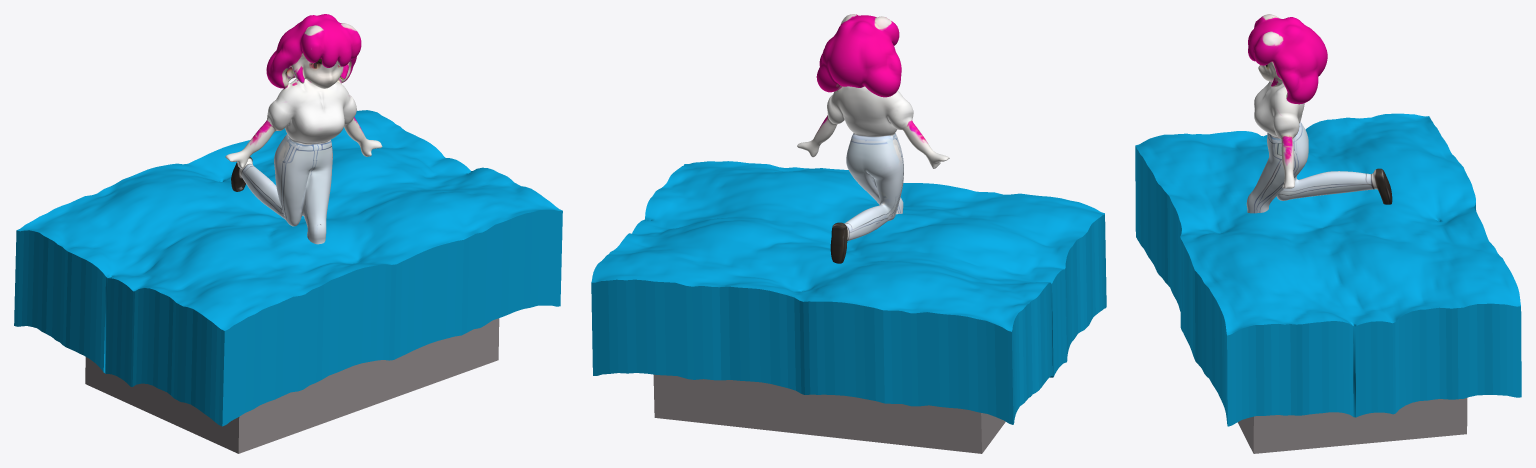
The model's file is asset.glb.
The picture shows the model from 3 angles, left to right: view 1: azimuth 30°, elevation 25°; view 2: azimuth 150°, elevation 25°; view 3: azimuth 270°, elevation 25°; orthographic projection. The views are drawn at different scales.
Visible parts, largest first — view 1: 平面, model, 立方体; view 2: 平面, model, 立方体; view 3: 平面, model, 立方体.
Boxes of the visible parts, bbox=[...] form: 平面: bbox=[14, 110, 562, 426]; model: bbox=[225, 14, 382, 244]; 立方体: bbox=[85, 318, 499, 453]; 平面: bbox=[591, 161, 1106, 424]; model: bbox=[797, 14, 949, 263]; 立方体: bbox=[653, 374, 1005, 453]; 平面: bbox=[1135, 113, 1521, 426]; model: bbox=[1246, 14, 1392, 213]; 立方体: bbox=[1238, 398, 1467, 453].
Bounding box in the file's own units: 14.04 × 11.2 × 10.95.
3 materials, 1 textured.
